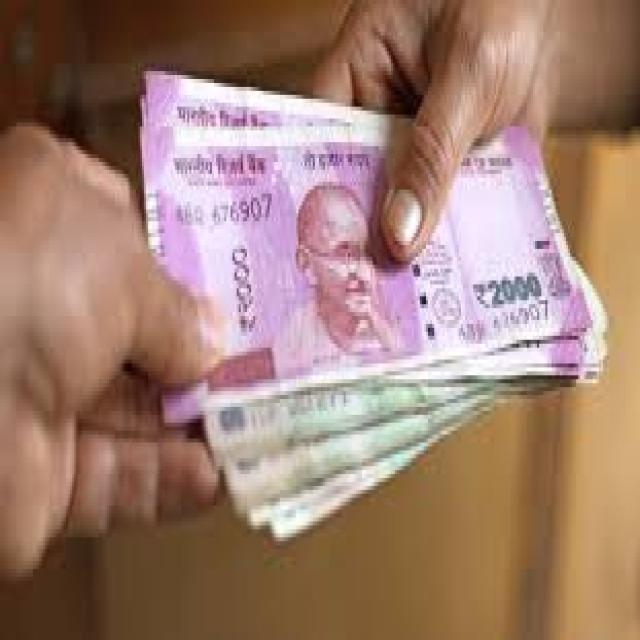hand: (110, 49, 610, 429)
